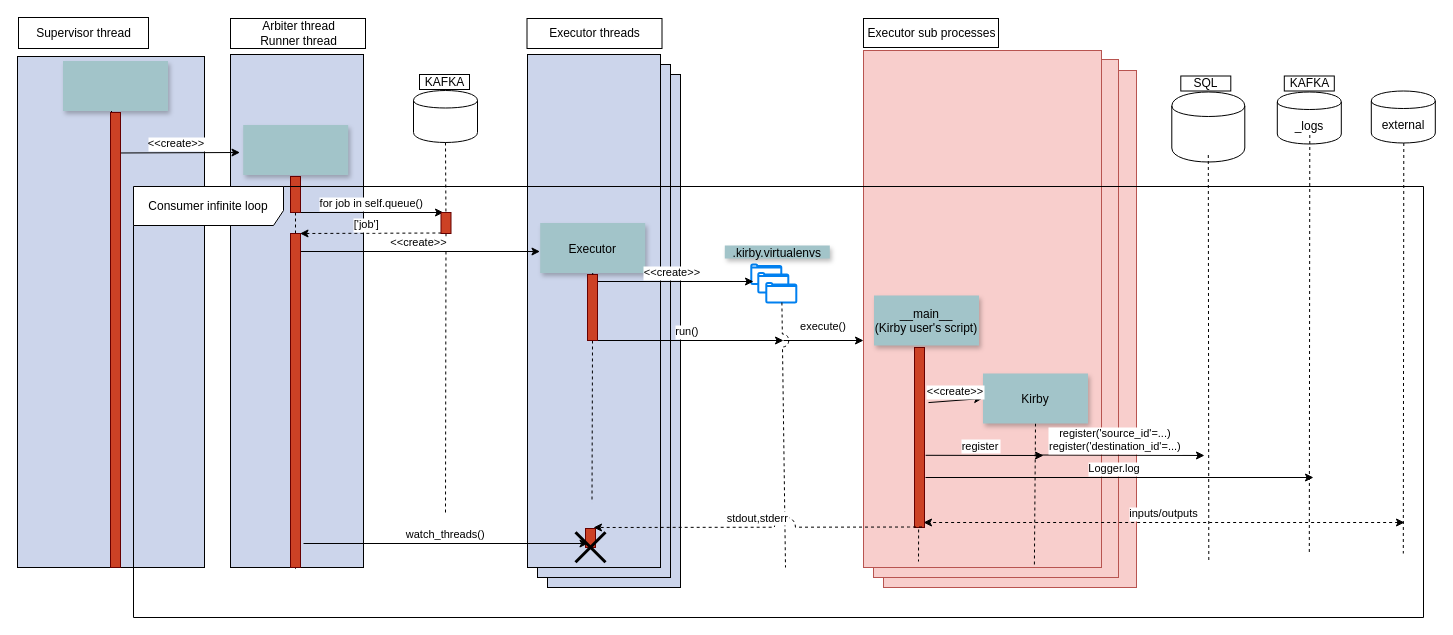
The diagram is 1453 pixels wide and 635 high, and some of its shapes have lost their labels. Each missing label, with the centre of its shape:
"daemon scheduled" belongs at (x=445, y=116).
"Kirby.db trough kirby web API" belongs at (x=1208, y=126).
"Runner Arbiter" belongs at (x=296, y=151).
"Supervisor" belongs at (x=116, y=87).
